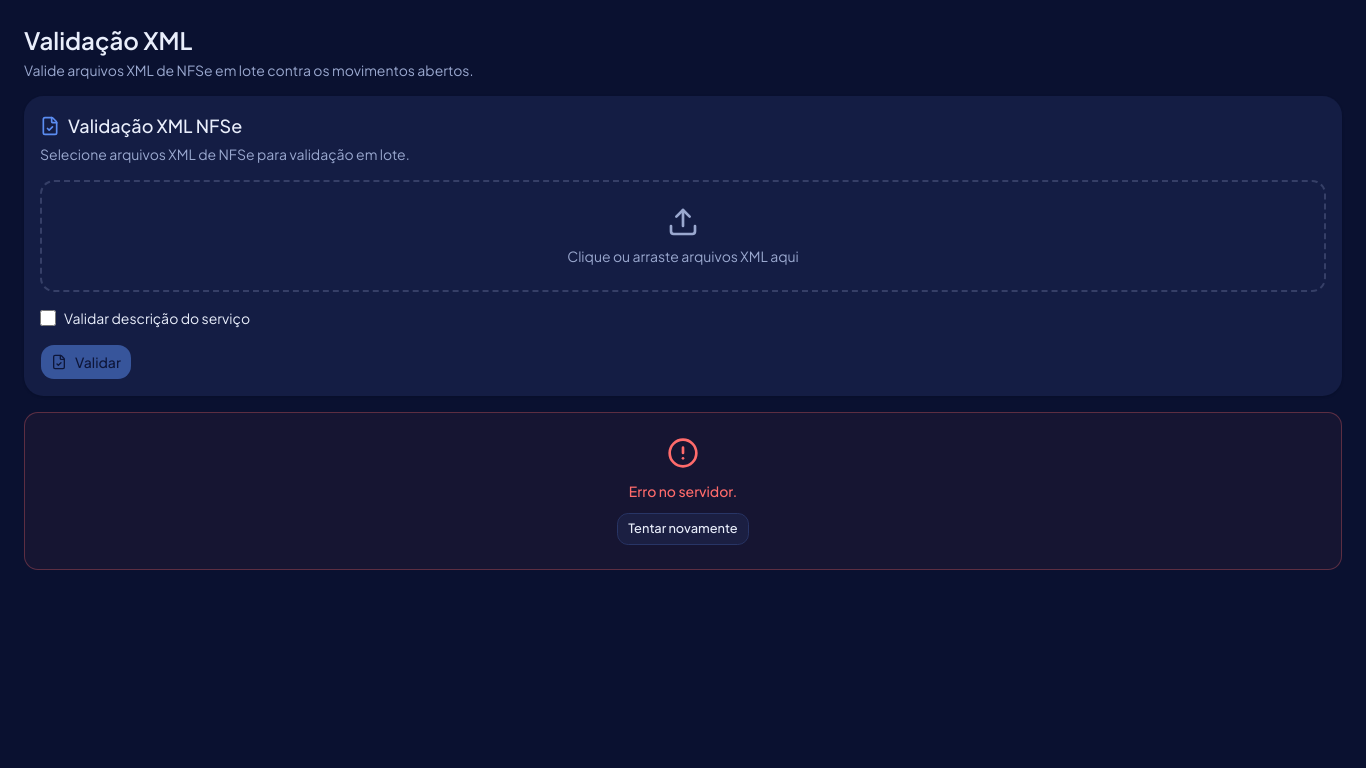
Test: ValidacaoXmlHubPage › seção de notas enviadas após o fechamento › erro: role=alert com "Tentar novamente" que recarrega
Expected: the message shows "Erro no servidor.", [629,482,737,500]
Click the button "Tentar novamente".
click(683, 529)  # box [617,513,749,545]
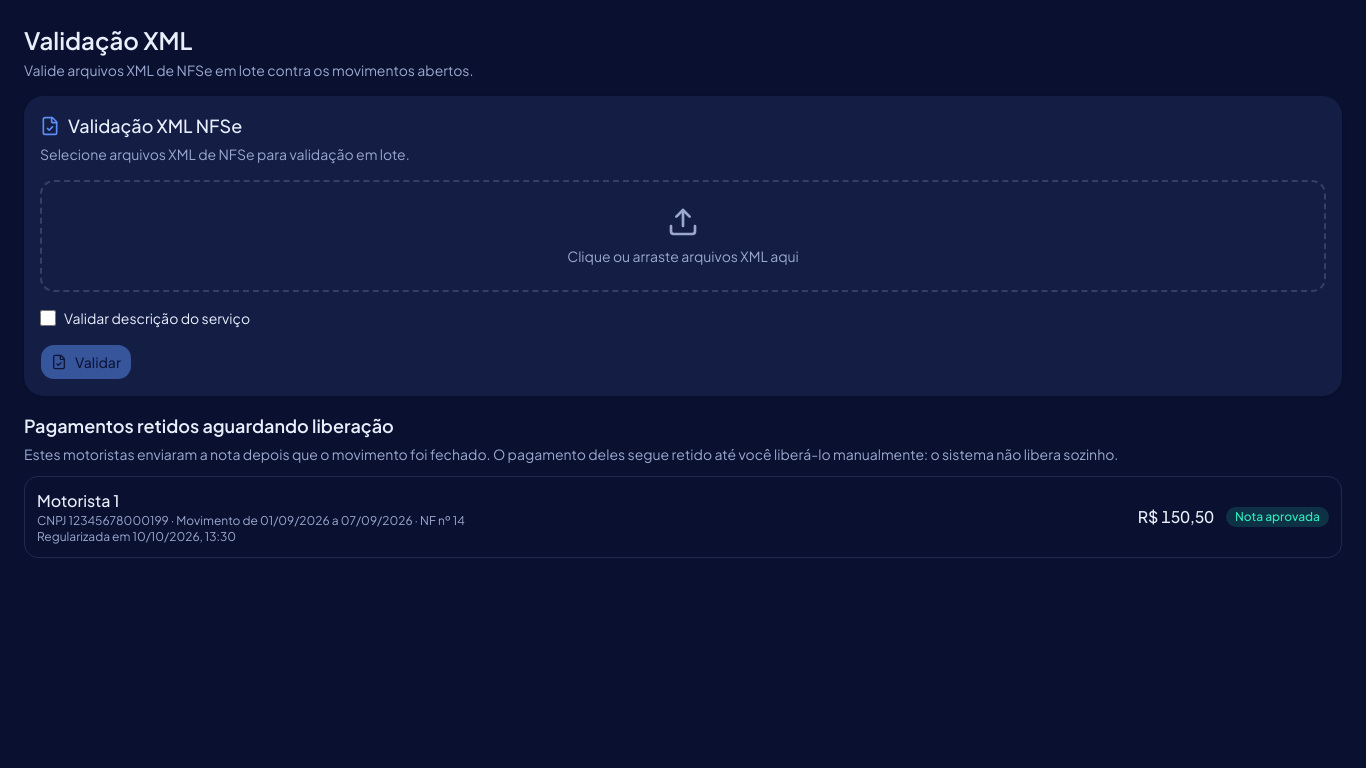
Result: the text "Motorista 1" is shown at [37,490,119,511]
Result: the message "Erro no servidor. Tentar novamente" is gone
